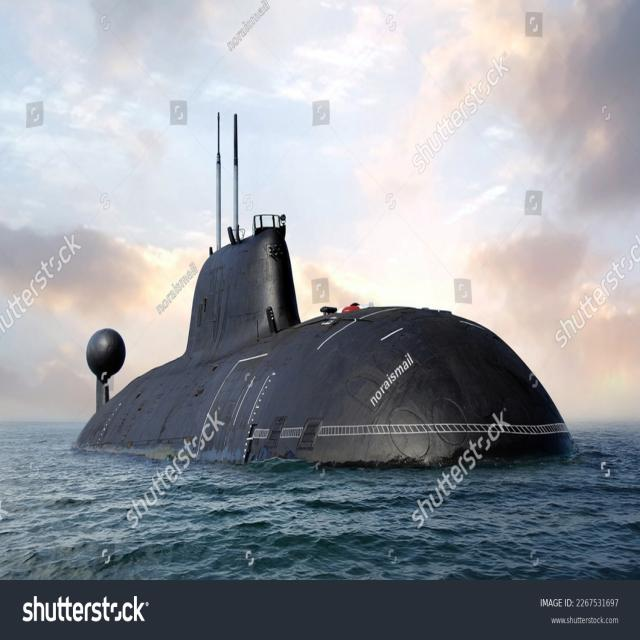Submarine-Akula-Class-IND: (76, 101, 582, 462)
